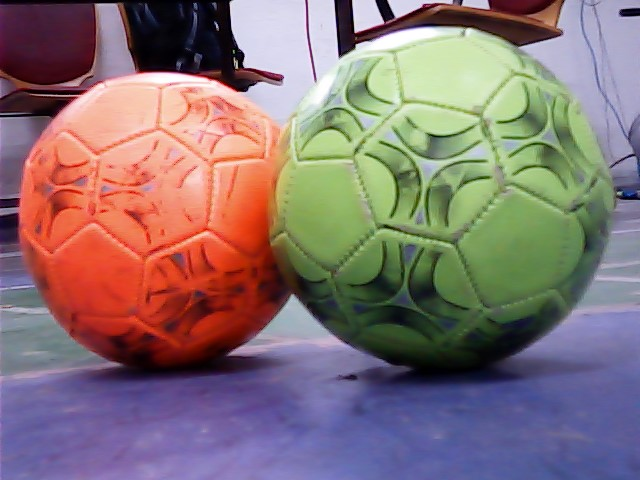Green_ball: (275, 22, 611, 370)
Orange_ball: (16, 70, 297, 367)
